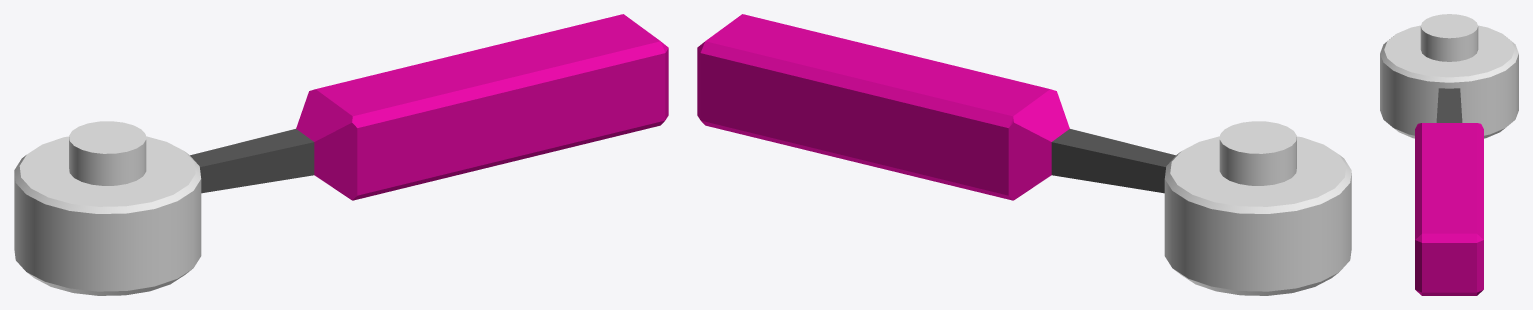
Rendered from spinningObstacle.fbx.
3 views of the same model, side by side, from view 1: azimuth 30°, elevation 25°; view 2: azimuth 150°, elevation 25°; view 3: azimuth 270°, elevation 25° (orthographic). The views are drawn at different scales.
Visible parts, largest first — view 1: spinningObstacle; view 2: spinningObstacle; view 3: spinningObstacle.
Part boxes in pixels (x1,y1,x2,y2): spinningObstacle: (14, 14, 668, 295); spinningObstacle: (697, 14, 1351, 295); spinningObstacle: (1380, 14, 1518, 295).
Size of the model in its own units: 7.49 by 1.41 by 1.96.
